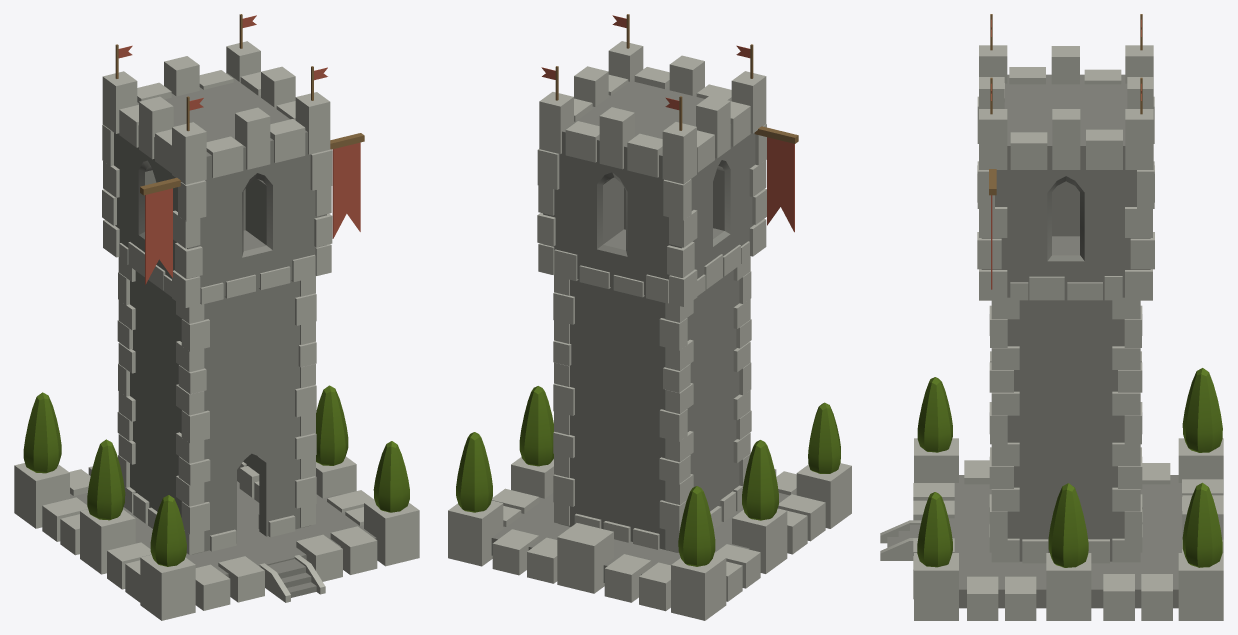
The model's file is watchtower-second-age-3.glb.
3 views of the same model, side by side, from view 1: azimuth 30°, elevation 25°; view 2: azimuth 150°, elevation 25°; view 3: azimuth 270°, elevation 25° (orthographic). The views are drawn at different scales.
Parts seen in each view (by area): view 1: WatchTower_SecondAge_Level3; view 2: WatchTower_SecondAge_Level3; view 3: WatchTower_SecondAge_Level3.
Part boxes in pixels (<box>): WatchTower_SecondAge_Level3: <box>14,14,419,620</box>; WatchTower_SecondAge_Level3: <box>448,14,851,620</box>; WatchTower_SecondAge_Level3: <box>880,14,1223,620</box>.
Bounding box in the file's own units: 0.8133 × 1.45 × 0.892.
